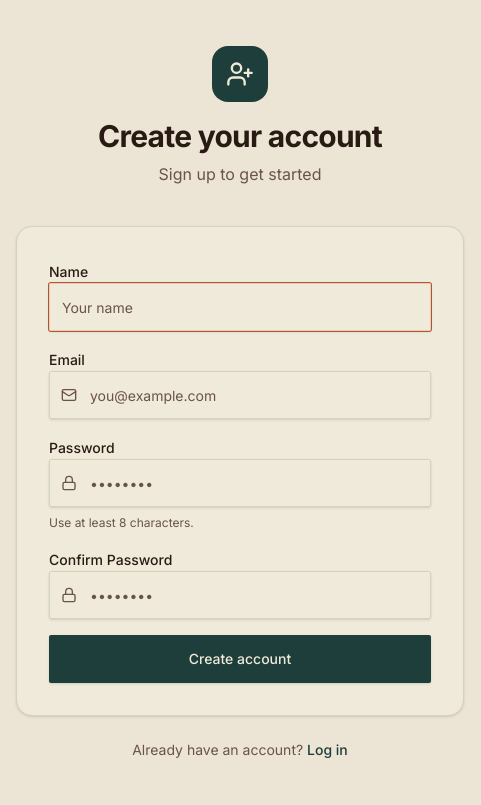
auth forms › blocks registration when the password confirmation differs
Type "Test Guest" into the field labelled "Name" at (240, 307), box [49,283,431,331]
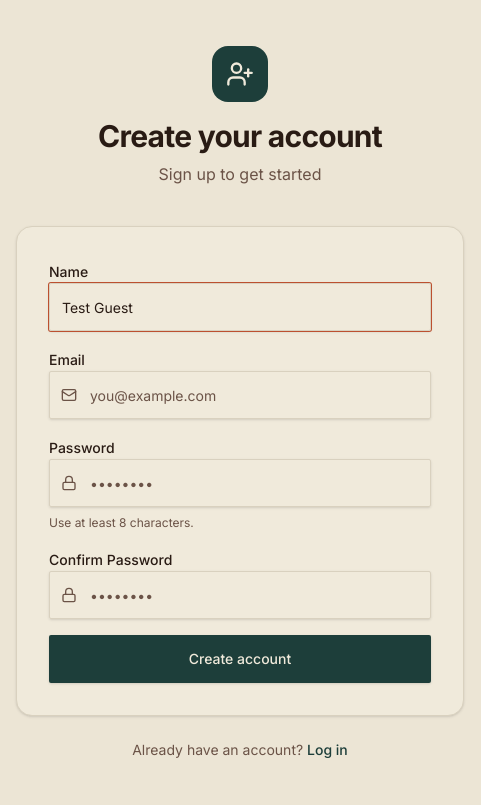
Type "guest@example.com" into the field labelled "Email" at (240, 395), box [49,371,431,419]
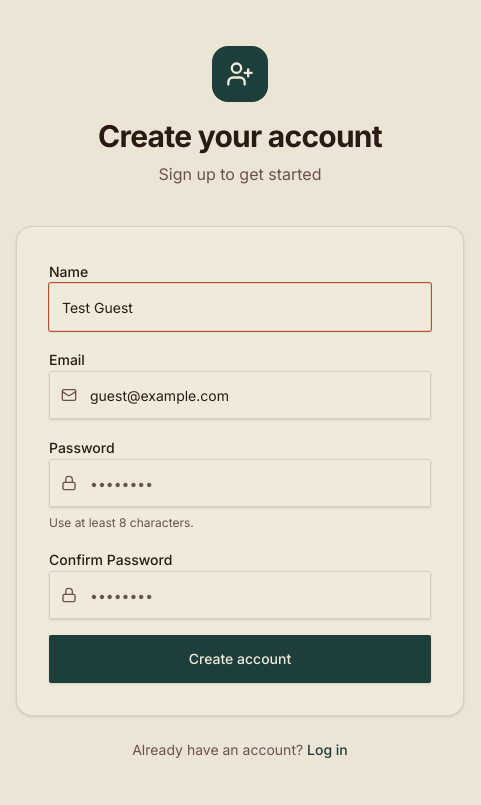
Type "one-password" into the password field labelled "Password" at (240, 483), box [49,459,431,507]
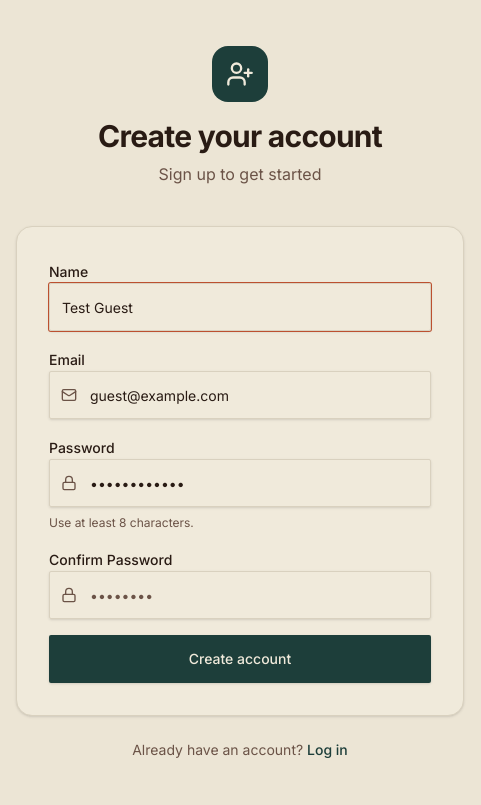
Type "another-password" into the password field labelled "Confirm Password" at (240, 595), box [49,571,431,619]
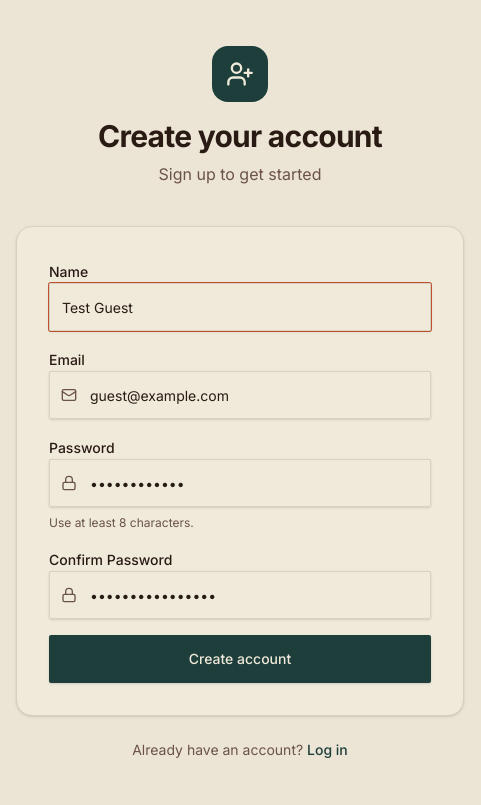
Click the button "Create account" at (240, 659), box [49,635,431,683]
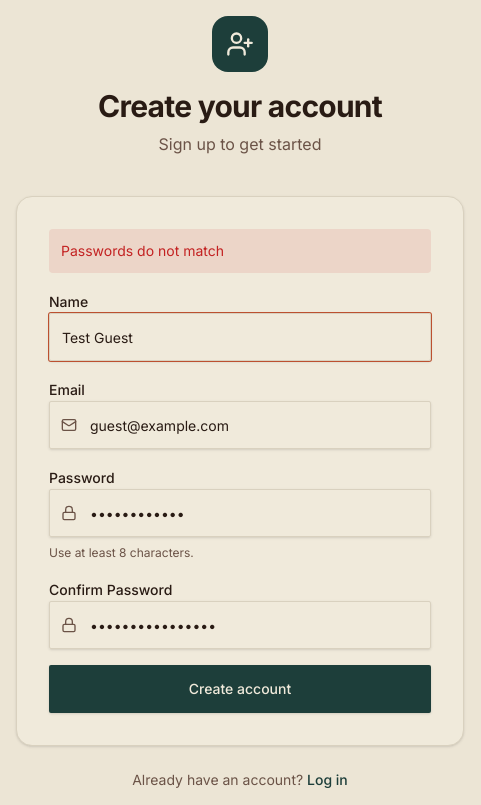
Expected: the text "Passwords do not match" is shown, [49,229,431,273]
